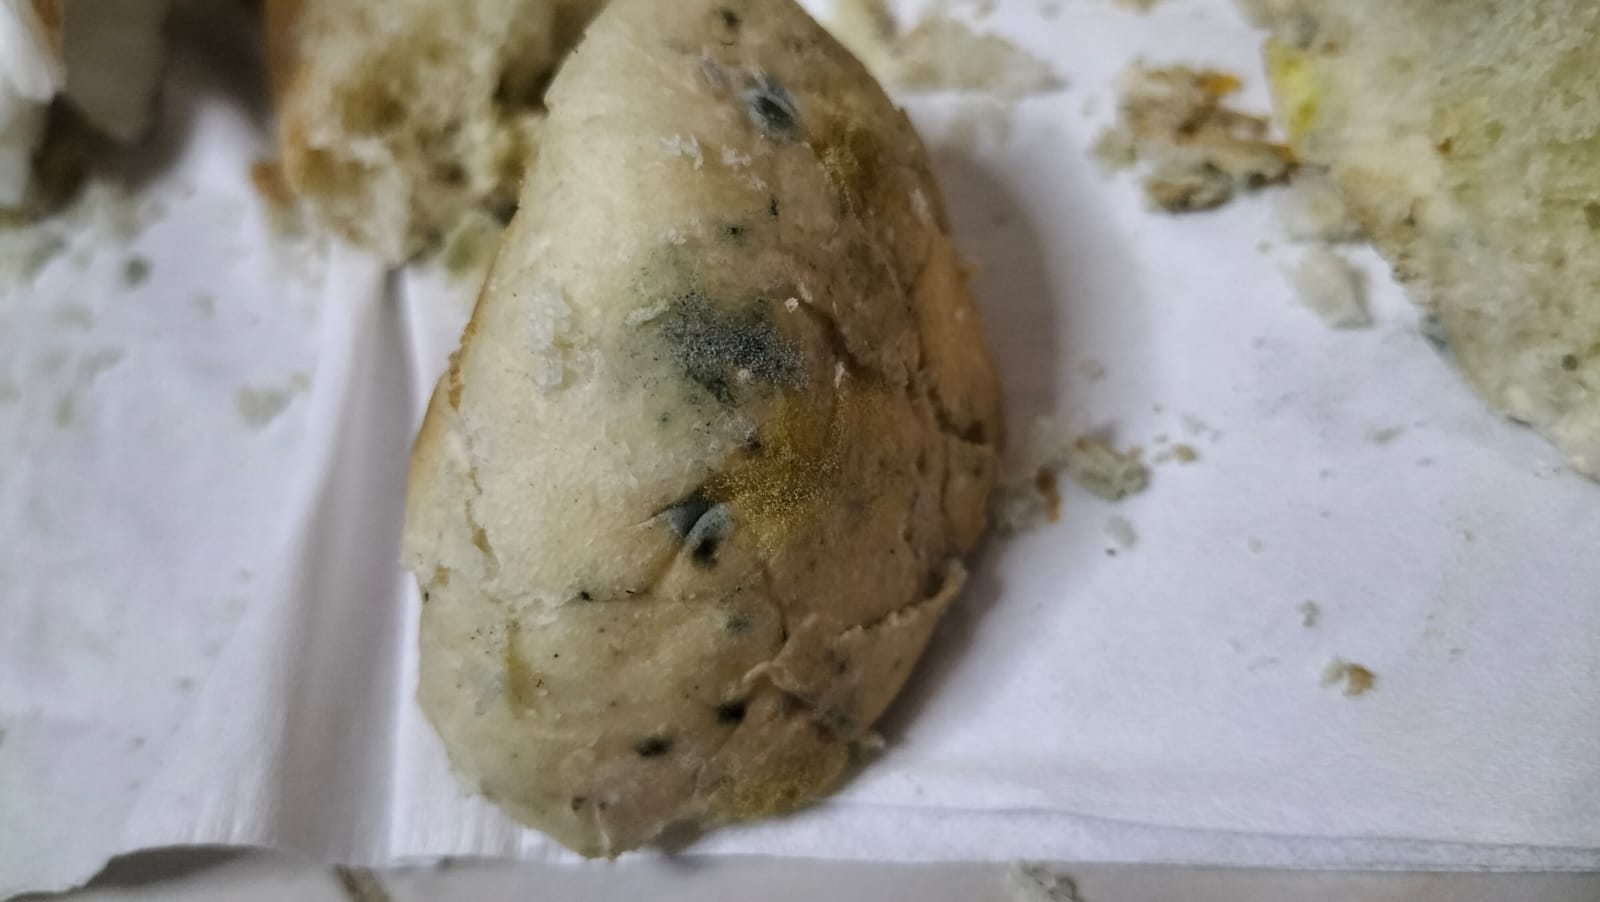mold_bread: (624, 229, 818, 417), (663, 430, 826, 580), (836, 126, 926, 319), (785, 648, 889, 762), (741, 73, 815, 144), (952, 401, 1003, 495), (702, 683, 759, 735), (634, 721, 680, 766), (712, 5, 760, 40)
